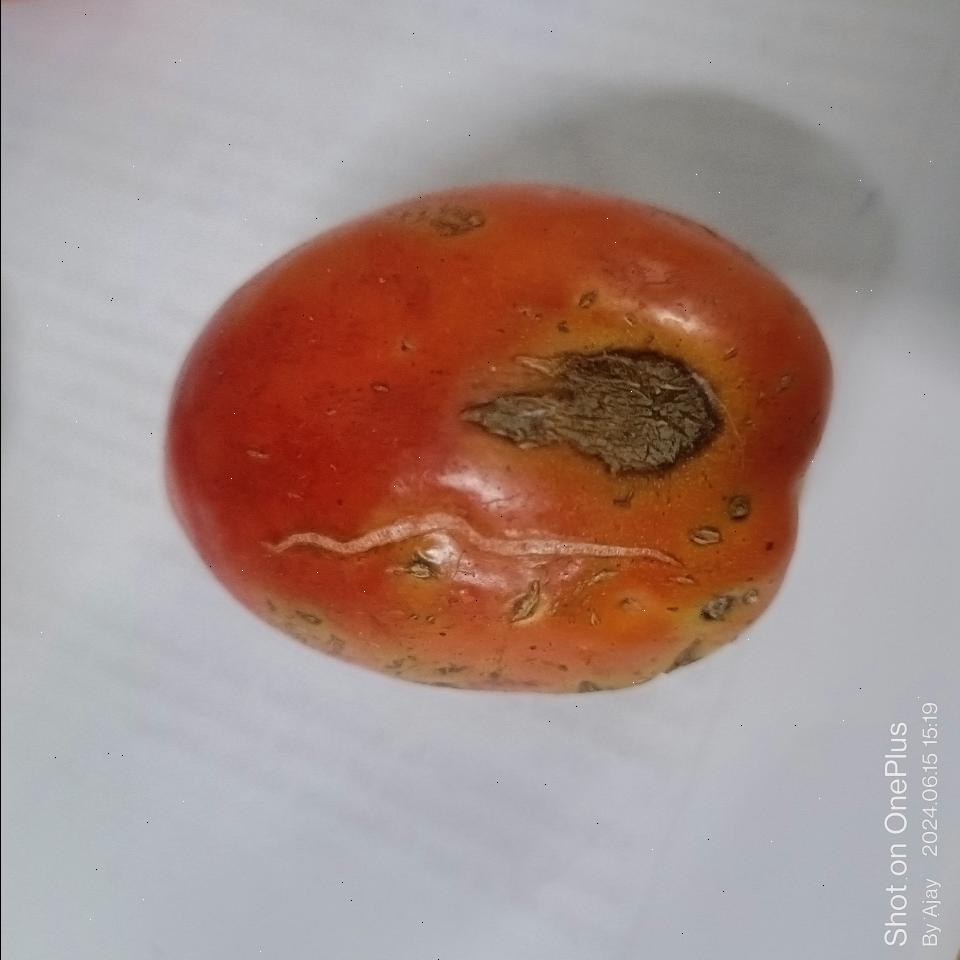Cracking: (450, 347, 726, 483), (252, 516, 682, 569)
